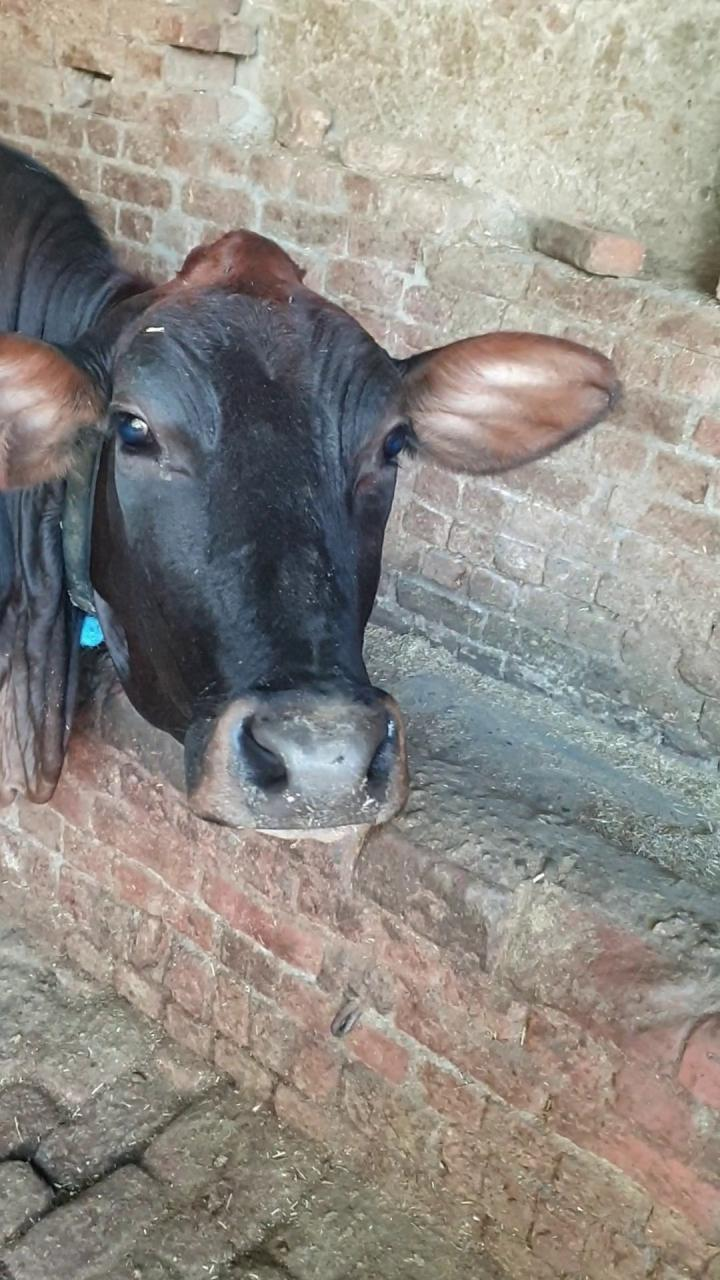cows: (95, 275, 457, 855)
